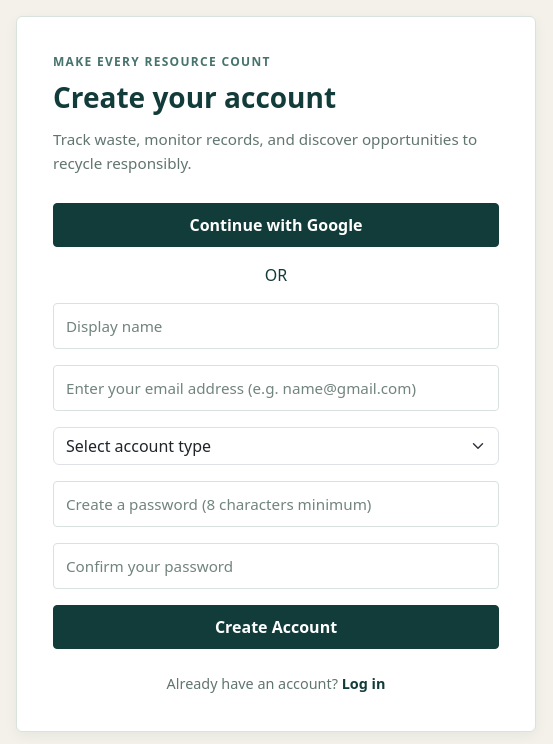
Test: Signup Page › creates an account successfully
In the field labelled "Display name": {"x": 276, "y": 326} [53,303,499,349], type "Test User"
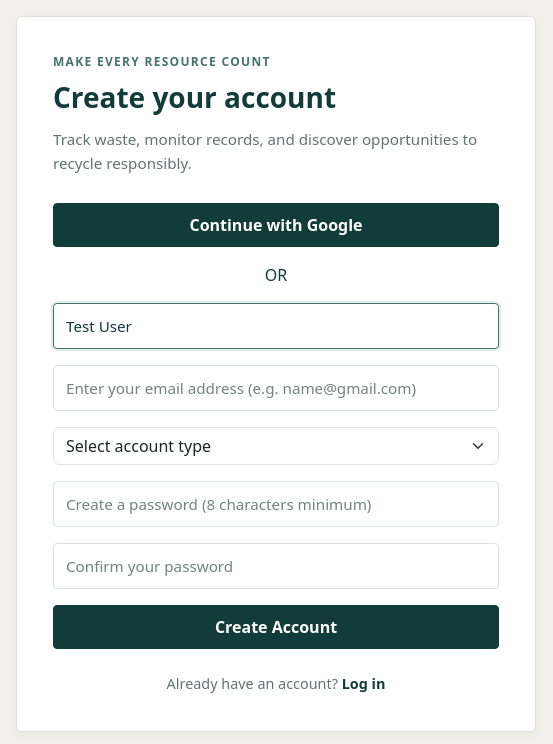
In the field labelled "Enter your email address (e.g. name@gmail.com)": {"x": 276, "y": 388} [53,365,499,411], type "TEST@EXAMPLE.COM"
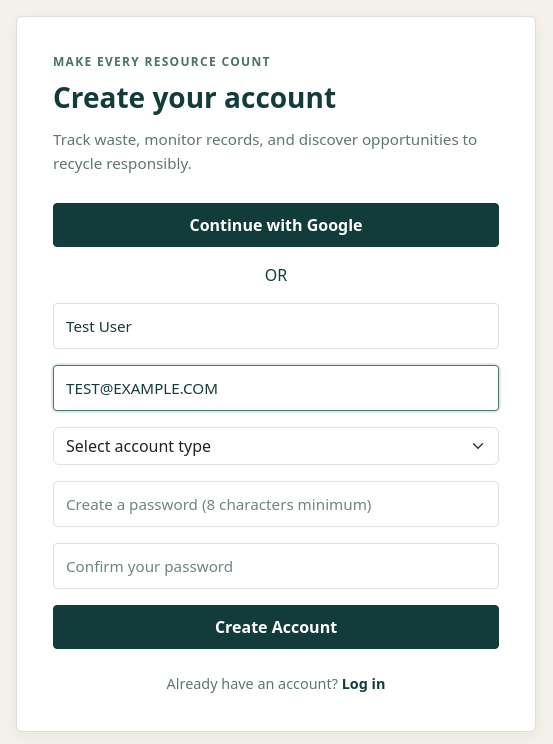
Select "Resident" in the dropdown named "account type": {"x": 276, "y": 446} [53,427,499,465]
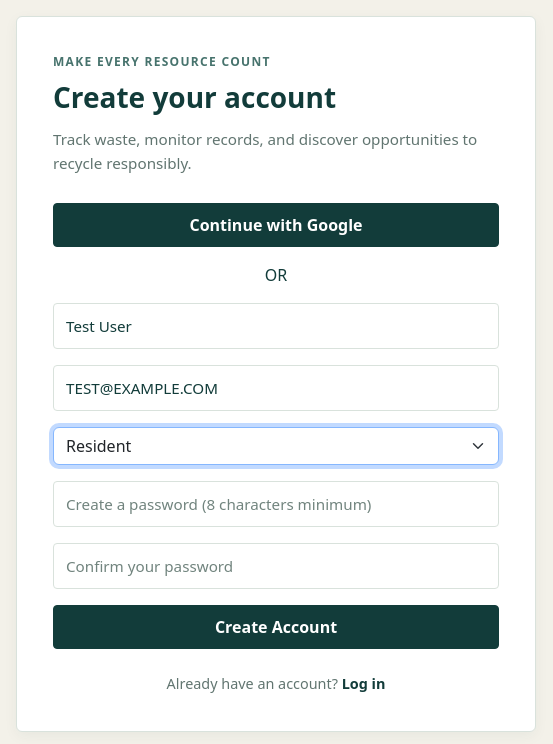
In the password field labelled "Create a password (8 characters minimum)": {"x": 276, "y": 504} [53,481,499,527], type "Password123"
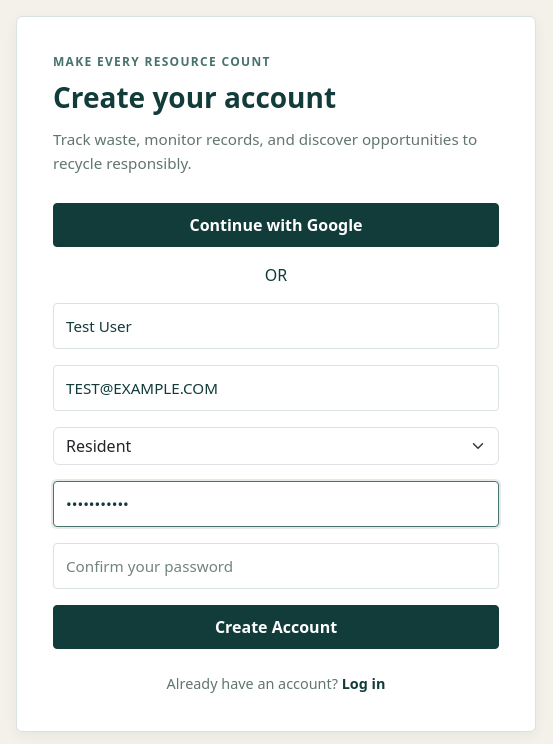
In the password field labelled "Confirm your password": {"x": 276, "y": 566} [53,543,499,589], type "Password123"
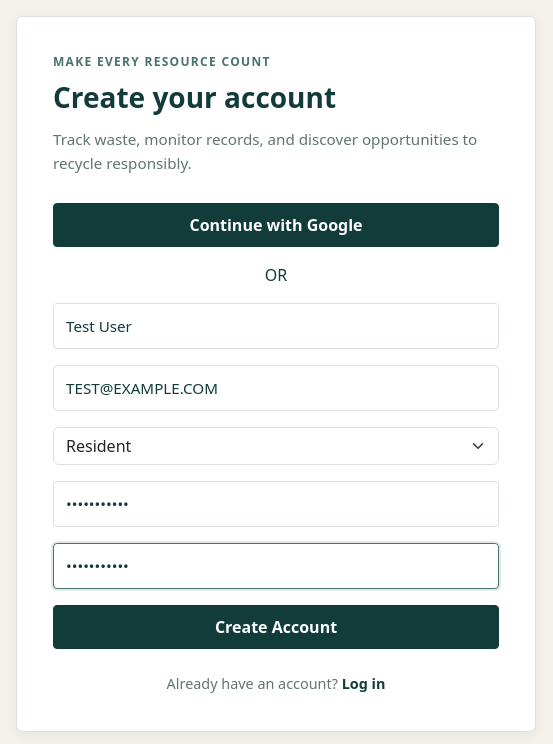
Click the button "Create Account": {"x": 276, "y": 627} [53,605,499,649]
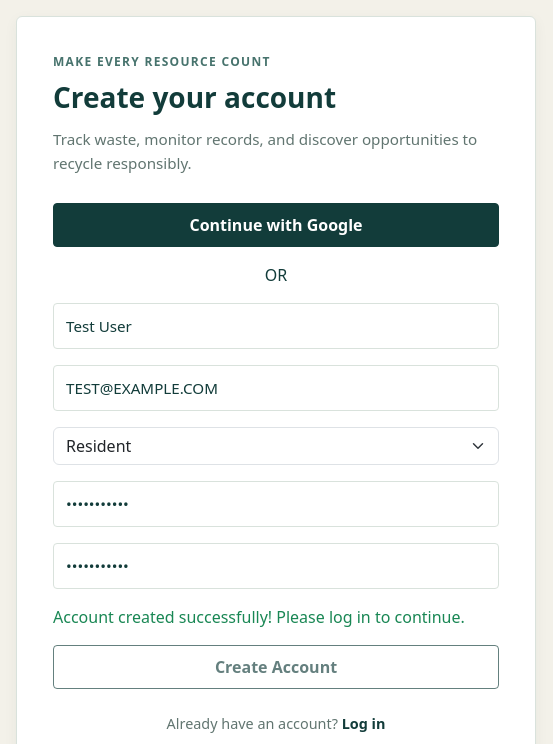
Result: the message reads "Account created successfully! Please log in to continue." at [53,606,465,628]
